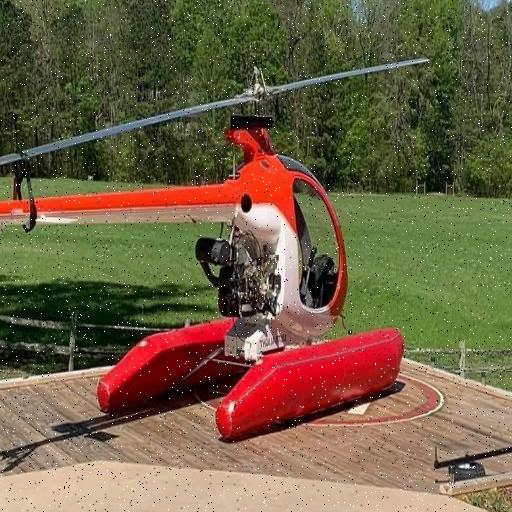helicopter: (1, 33, 445, 456)
